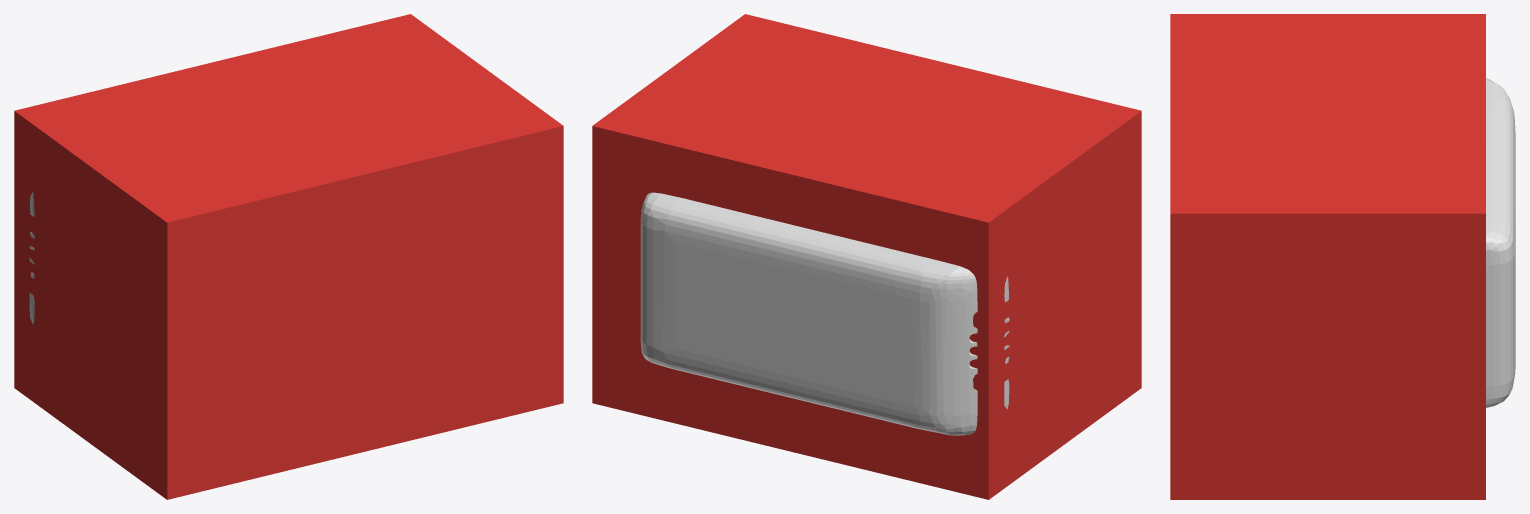
Rendered from DewaldRadio-OnOff-Starter.fbx.
3 views of the same model, side by side, from view 1: azimuth 30°, elevation 25°; view 2: azimuth 150°, elevation 25°; view 3: azimuth 270°, elevation 25° (orthographic). The views are drawn at different scales.
Parts seen in each view (by area): view 1: DewaldToggleClick; view 2: DewaldToggleClick, DewaldRadio; view 3: DewaldToggleClick, DewaldRadio.
Boxes of the visible parts, <box> form: DewaldToggleClick: <box>14,14,563,499</box>; DewaldToggleClick: <box>592,14,1141,499</box>; DewaldRadio: <box>640,192,1009,435</box>; DewaldToggleClick: <box>1170,14,1485,499</box>; DewaldRadio: <box>1486,78,1515,407</box>.
Size of the model in its own units: 0.6674 by 0.4455 by 0.4874.
